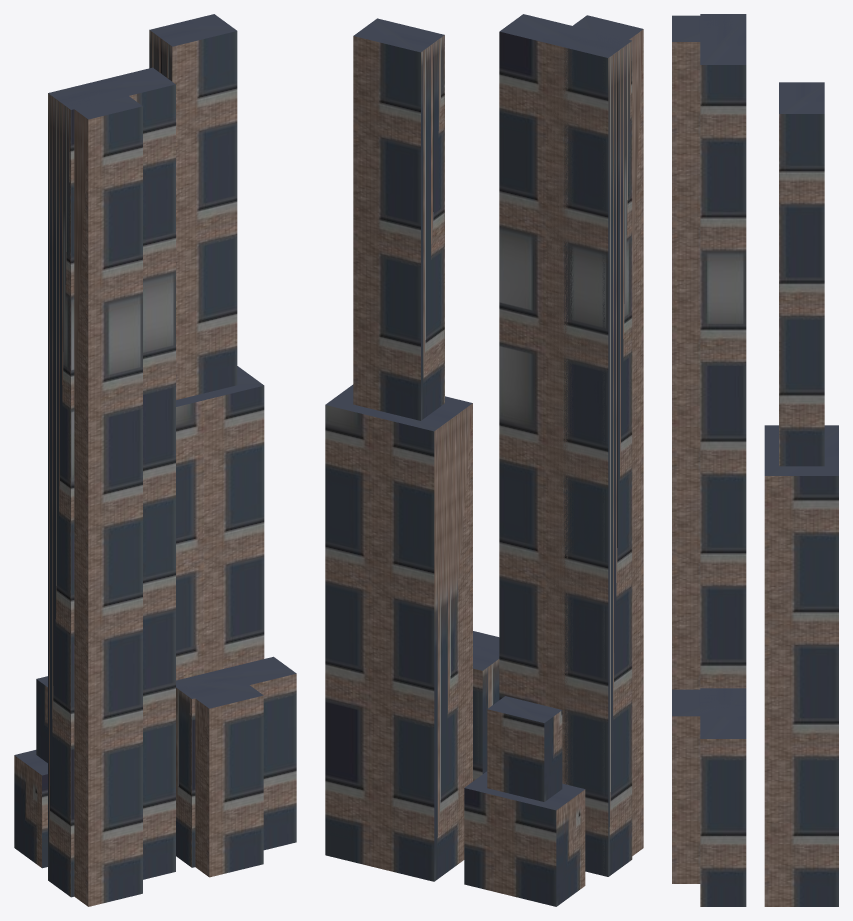
The model's file is block_14.obj.
3 views of the same model, side by side, from view 1: azimuth 30°, elevation 25°; view 2: azimuth 150°, elevation 25°; view 3: azimuth 270°, elevation 25° (orthographic). The views are drawn at different scales.
Parts seen in each view (by area): view 1: b1, b2, b3, b0; view 2: b1, b2, b0, b3; view 3: b2, b1, b3.
Part boxes in pixels (x1=…): b1: x1=48, y1=67, x2=175, y2=906; b2: x1=149, y1=14, x2=264, y2=680; b3: x1=176, y1=656, x2=296, y2=877; b0: x1=14, y1=676, x2=47, y2=868; b1: x1=499, y1=14, x2=643, y2=876; b2: x1=325, y1=18, x2=472, y2=881; b0: x1=464, y1=696, x2=585, y2=906; b3: x1=473, y1=631, x2=499, y2=781; b2: x1=764, y1=82, x2=838, y2=906; b1: x1=672, y1=14, x2=746, y2=689; b3: x1=672, y1=688, x2=746, y2=906.
Size of the model in its own units: 4.2 by 14 by 2.7.
